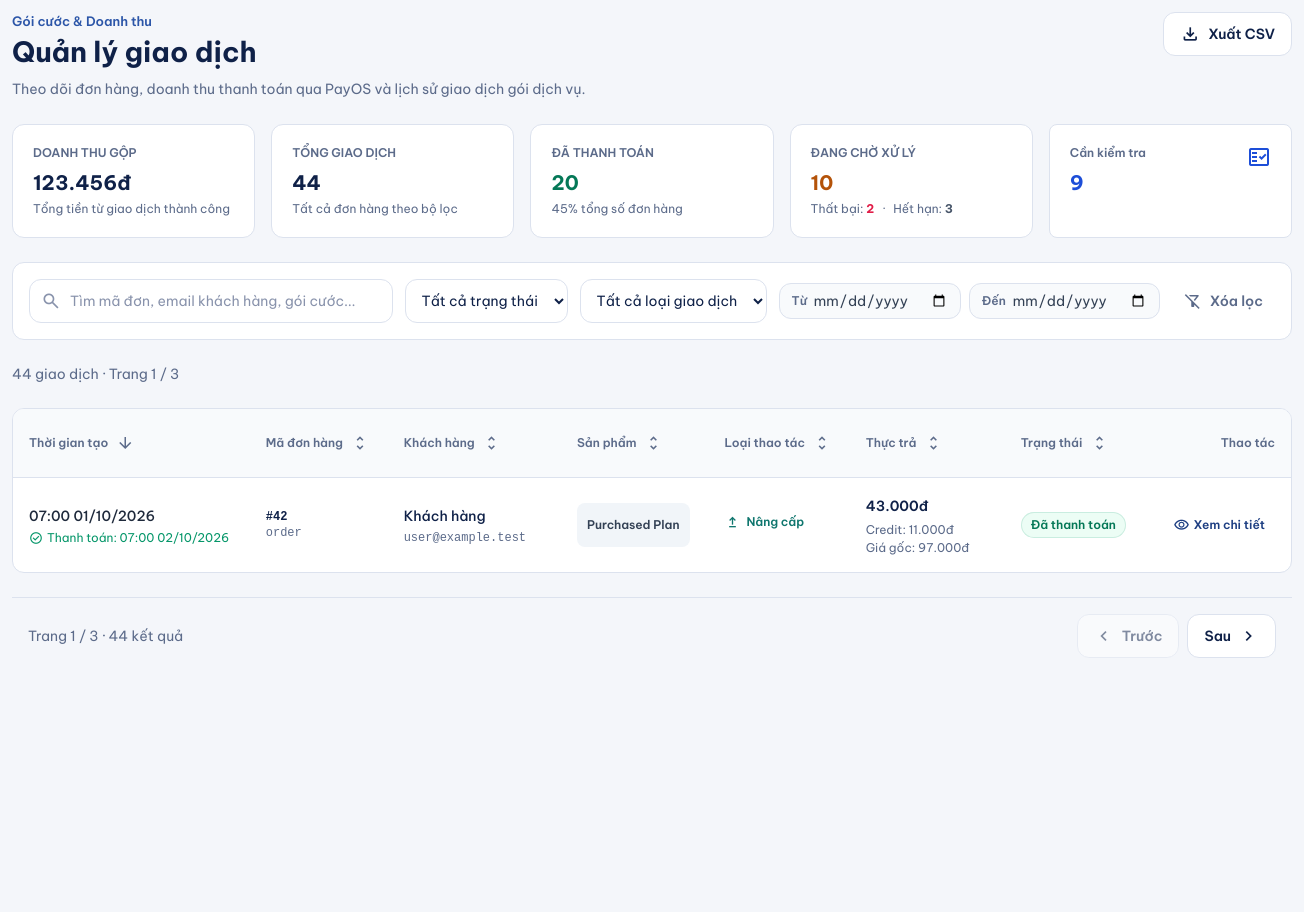
A5 transaction responsive and overlay contract › invalid date range remains visible and export disabled
Type "2026-10-05" into the date field named "Lọc từ ngày".
click(880, 301); type("2026-10-05")  # box [813,290,948,312]
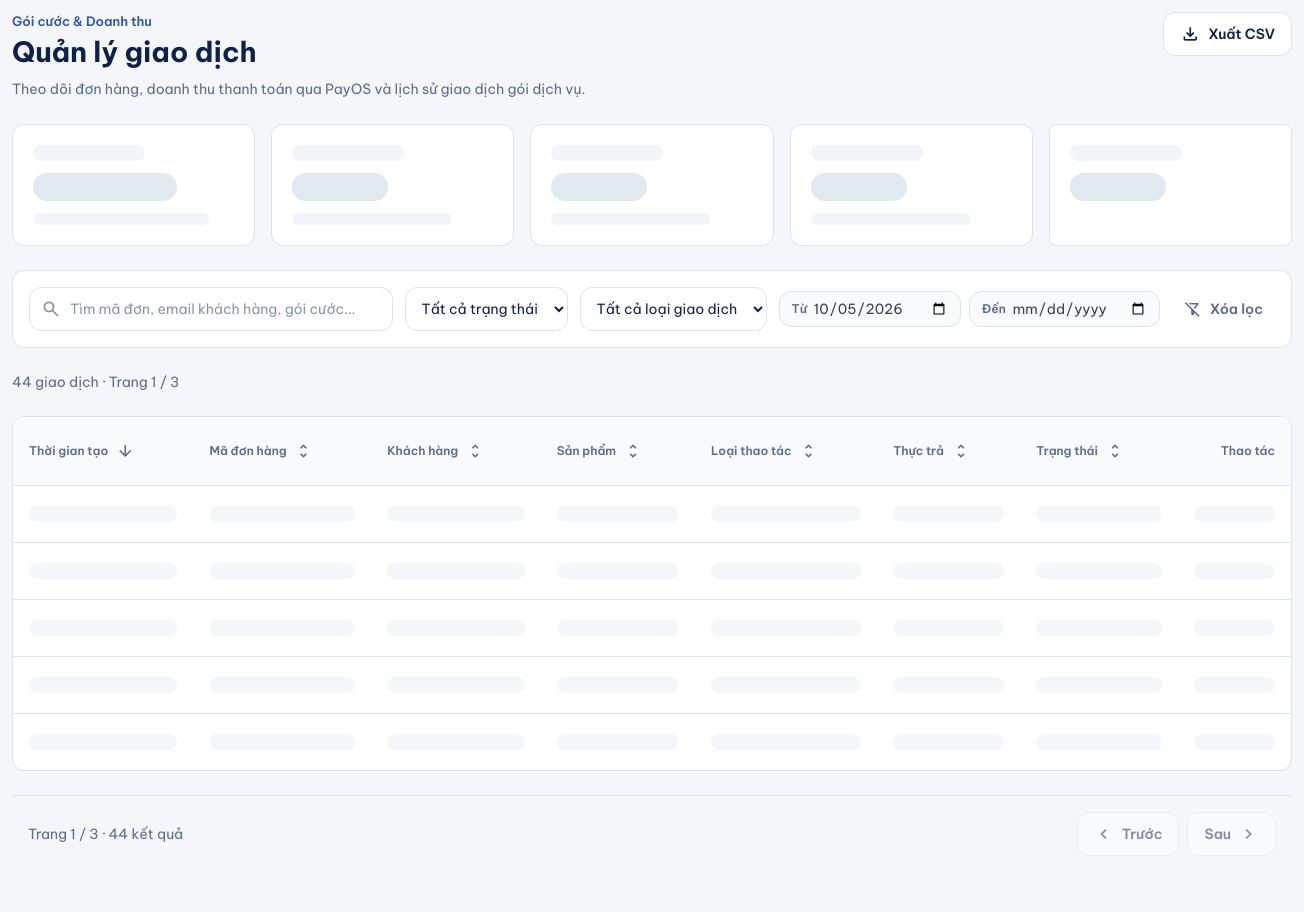
Type "2026-10-01" into the date field named "Lọc đến ngày".
click(1079, 309); type("2026-10-01")  # box [1012,298,1147,320]
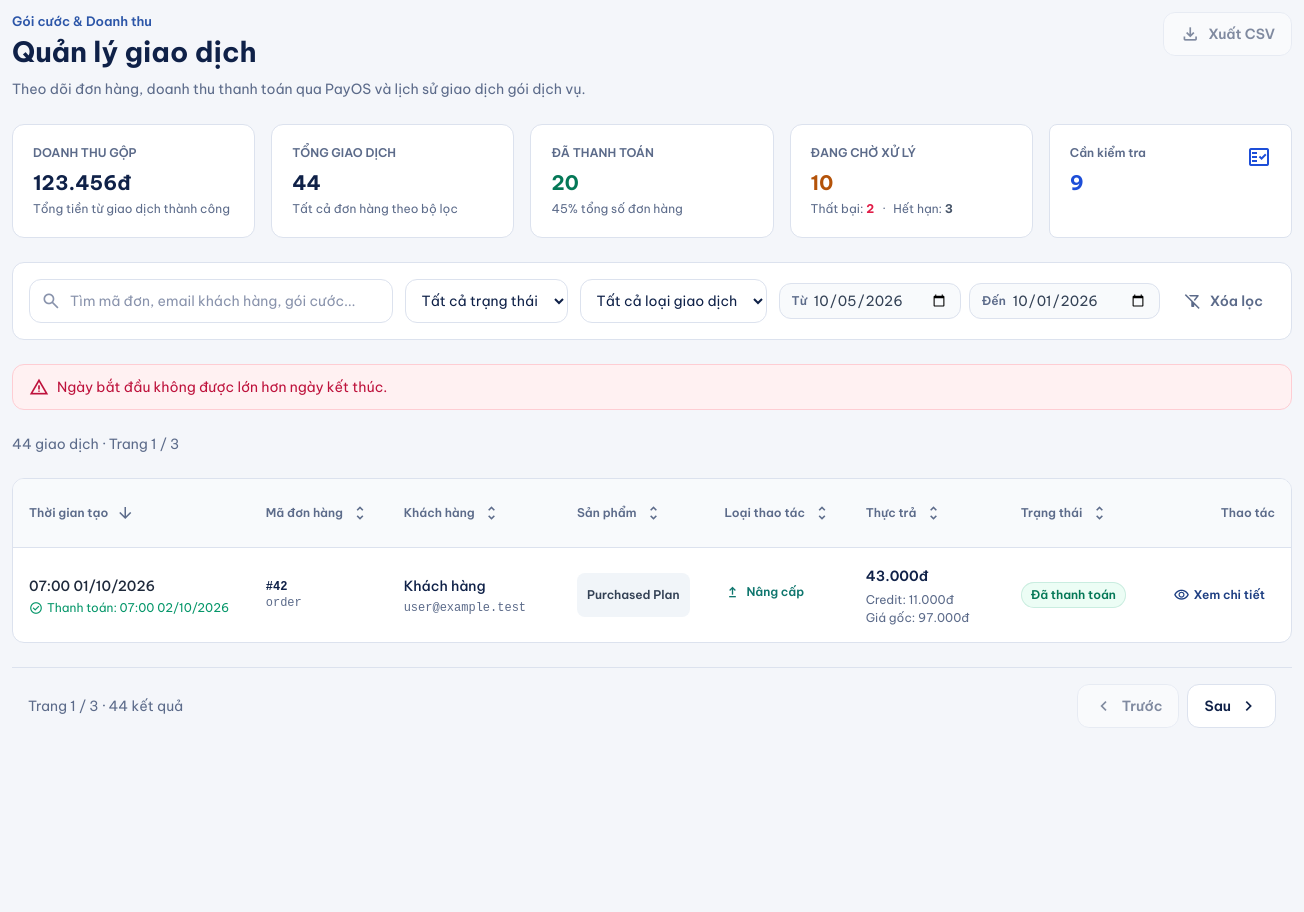
Now the message "Ngày bắt đầu không được lớn hơn ngày kết thúc." is shown, box [12,364,1292,410]
Now the button "Xuất CSV" is disabled, box [1163,12,1292,56]
